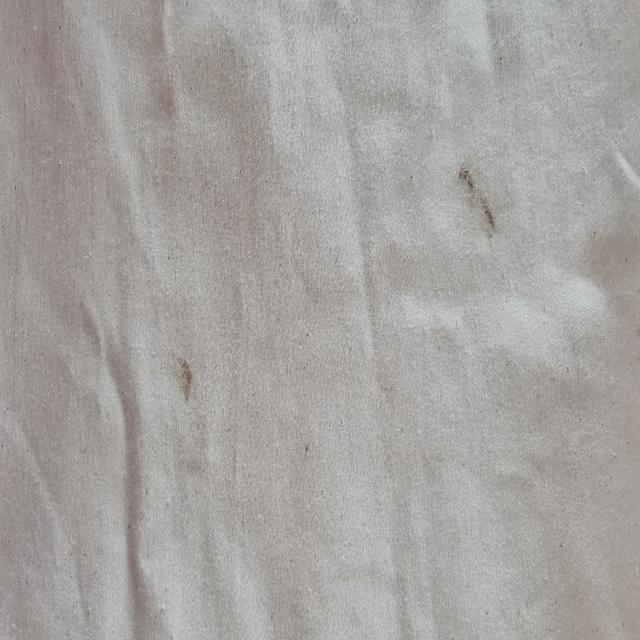taaaches: (454, 143, 499, 248), (172, 342, 197, 414)
